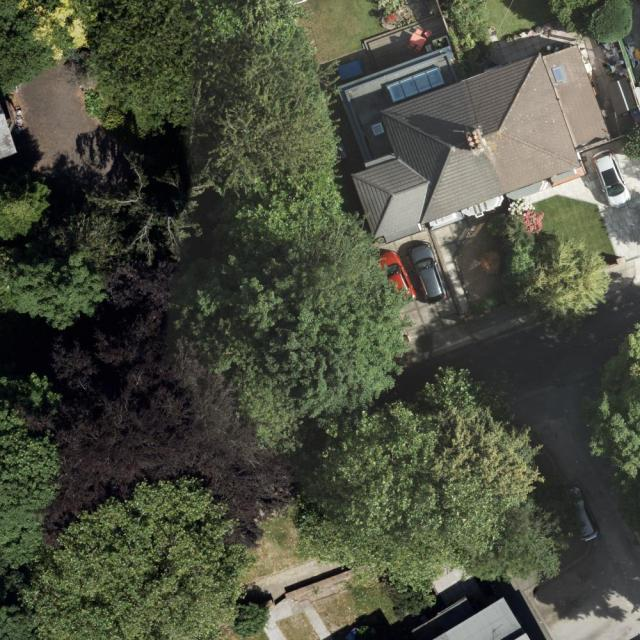roof: (335, 45, 612, 250), (433, 595, 532, 640), (0, 106, 16, 158)
skylight: (383, 62, 449, 106), (552, 63, 572, 88), (370, 117, 388, 136)
